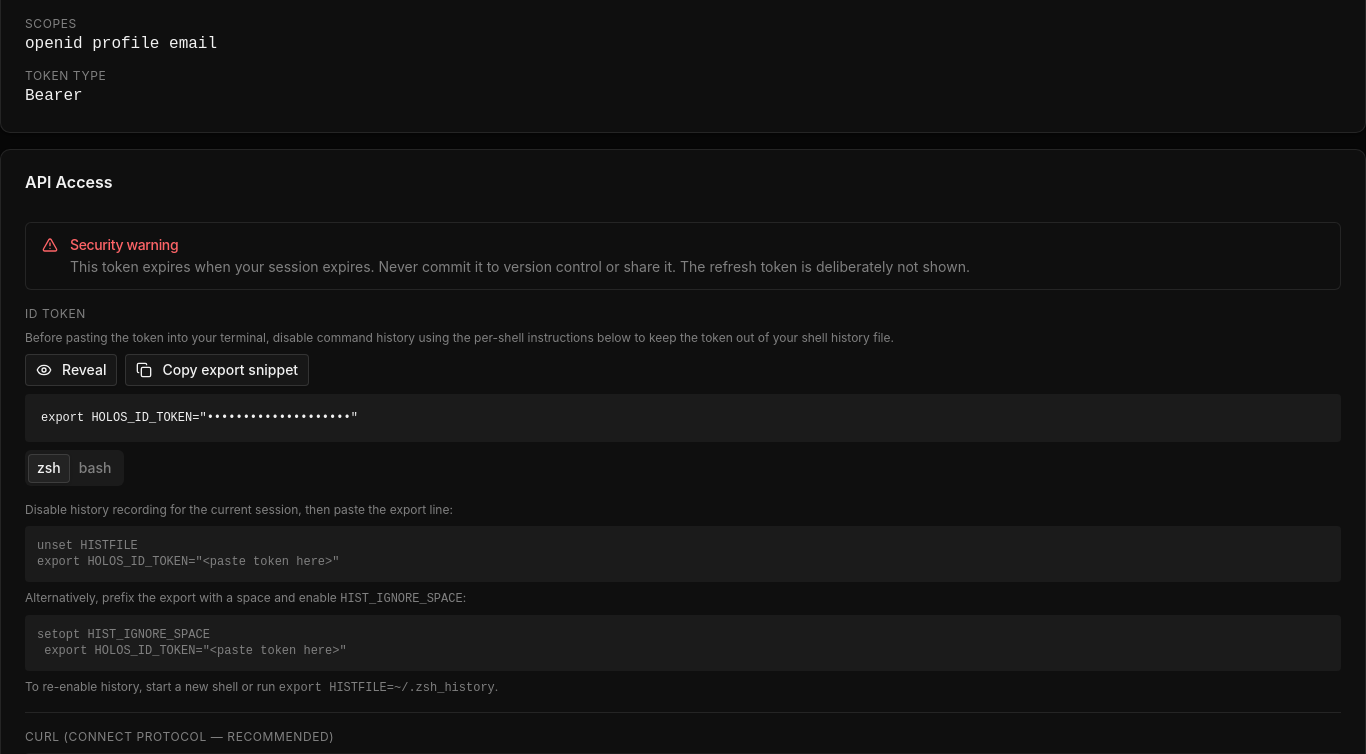
Test: ProfilePage API Access section › masks the token again when Hide is clicked after reveal
The image size is (1366, 754).
(page scrolled)
Step 1. Click the button "Reveal" → [71, 370], box [25, 354, 118, 386]
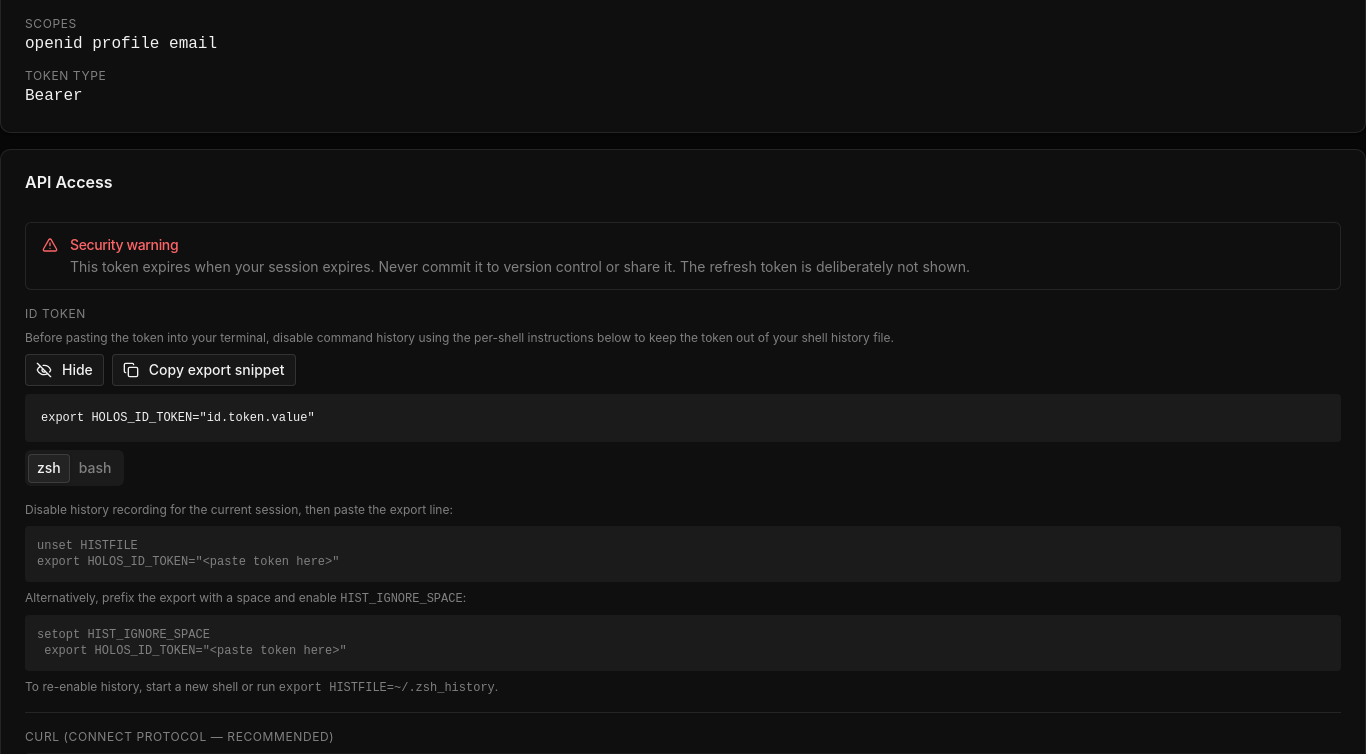
Check: the text "export HOLOS_ID_TOKEN=\"id.token.value\"" is shown, box [25, 394, 1341, 442]
Step 2. Click the button "Hide" → [64, 370], box [25, 354, 104, 386]
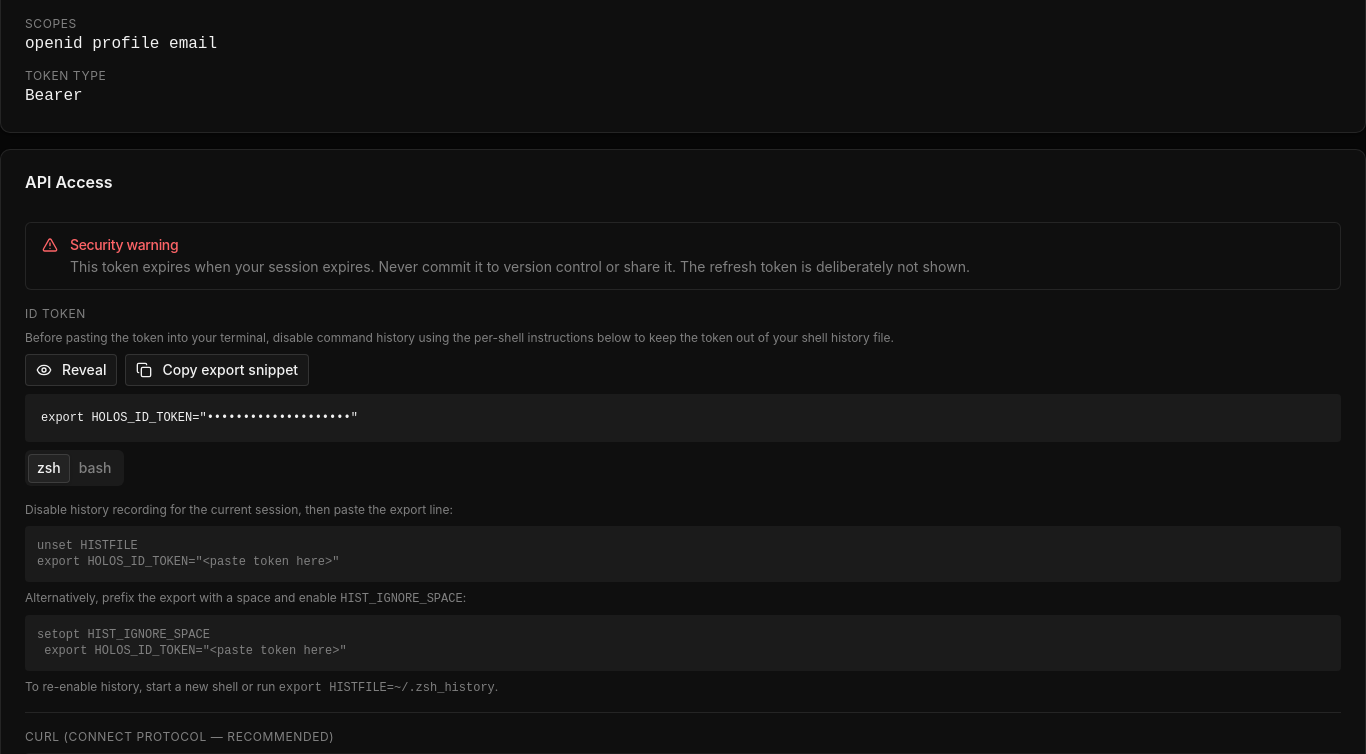
Check: the text "id.token.value" is gone
